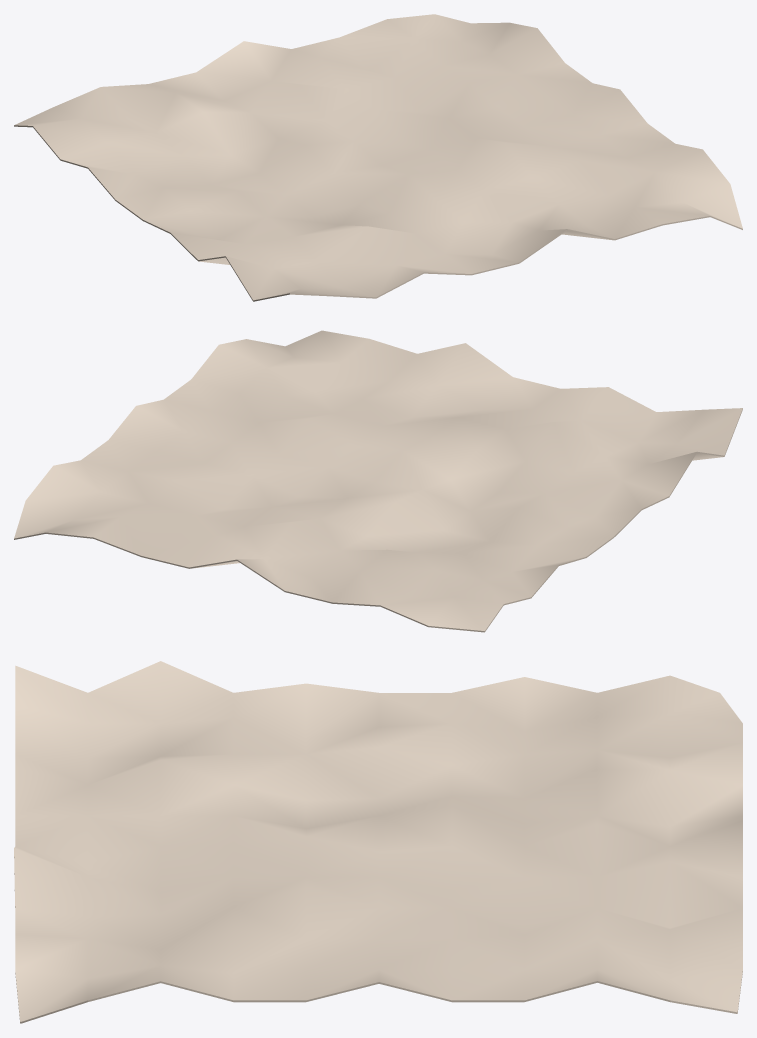
The model's file is sm_TrashPaperSheet1.fbx.
The picture shows the model from 3 angles, top to bottom: view 1: azimuth 30°, elevation 25°; view 2: azimuth 150°, elevation 25°; view 3: azimuth 270°, elevation 25°; orthographic projection. The views are drawn at different scales.
Visible parts, largest first — view 1: Crumpled_Paper_sheet:pPlane1; view 2: Crumpled_Paper_sheet:pPlane1; view 3: Crumpled_Paper_sheet:pPlane1.
Part boxes in pixels (<box>): Crumpled_Paper_sheet:pPlane1: <box>14,14,742,301</box>; Crumpled_Paper_sheet:pPlane1: <box>14,330,742,632</box>; Crumpled_Paper_sheet:pPlane1: <box>14,661,742,1023</box>.
Size of the model in its own units: 95.15 by 9.41 by 95.31.
